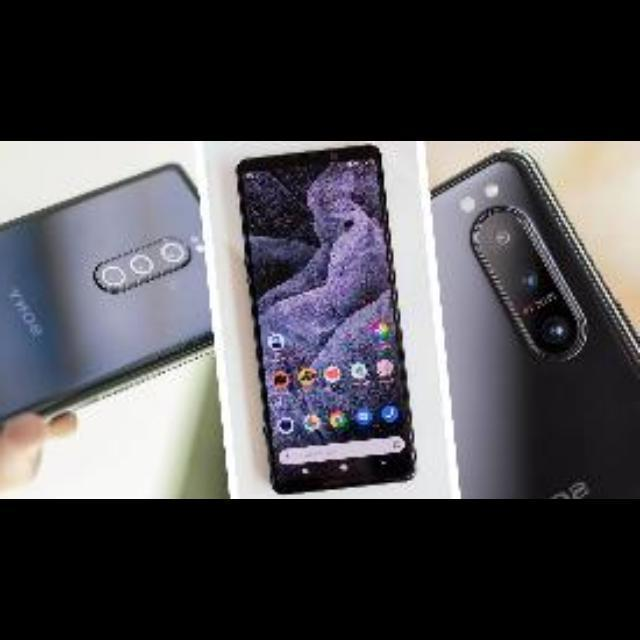mobile: (430, 141, 639, 499), (237, 143, 406, 499), (0, 159, 200, 389)
